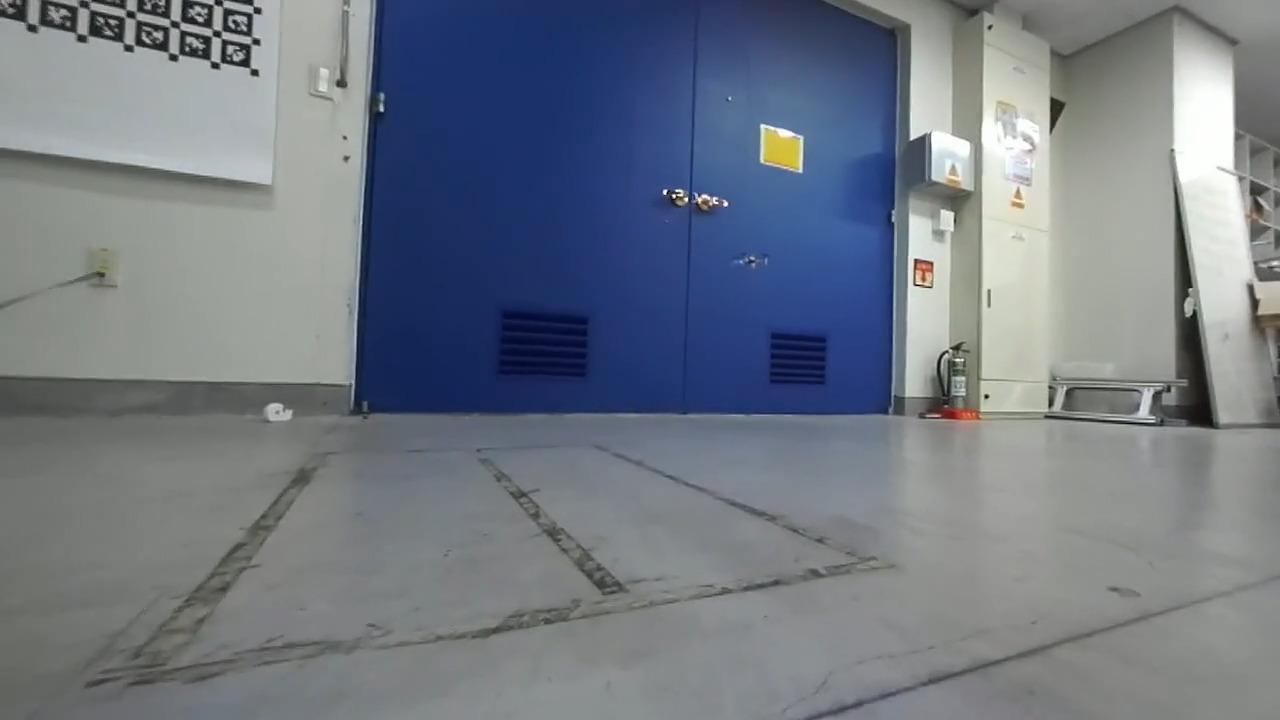crazyflie: (727, 248, 772, 273)
